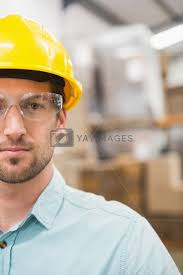Person_wearing_helmet: (0, 8, 86, 132)
